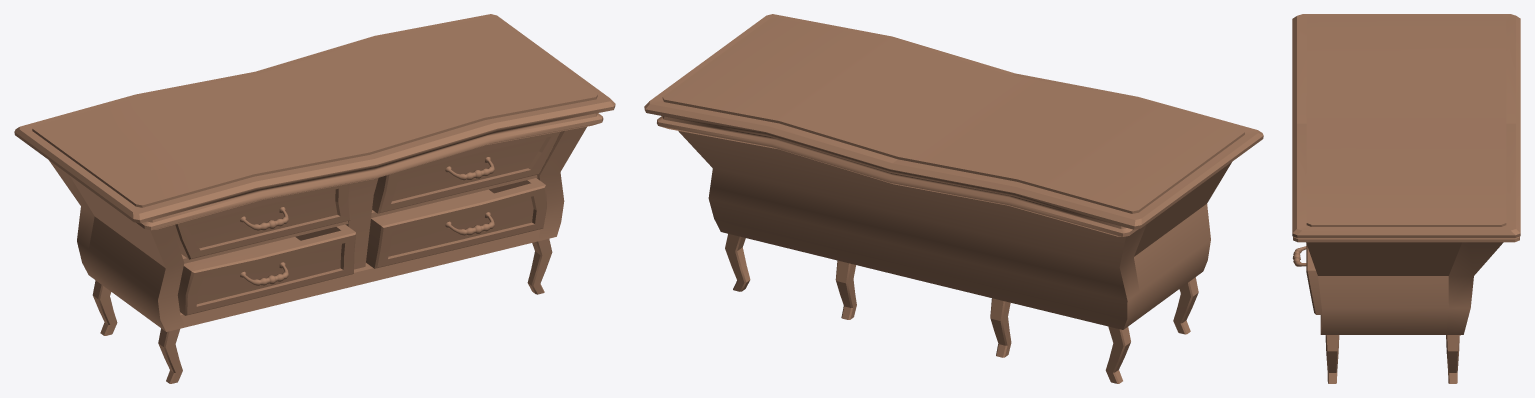
The model's file is Commode_02.fbx.
3 views of the same model, side by side, from view 1: azimuth 30°, elevation 25°; view 2: azimuth 150°, elevation 25°; view 3: azimuth 270°, elevation 25° (orthographic). The views are drawn at different scales.
Parts seen in each view (by area): view 1: polySurface419; view 2: polySurface419; view 3: polySurface419.
Part boxes in pixels (x1=…): polySurface419: x1=14, y1=14, x2=615, y2=383; polySurface419: x1=644, y1=14, x2=1263, y2=383; polySurface419: x1=1292, y1=14, x2=1520, y2=383.
Size of the model in its own units: 1.82 by 0.7244 by 0.8115.
